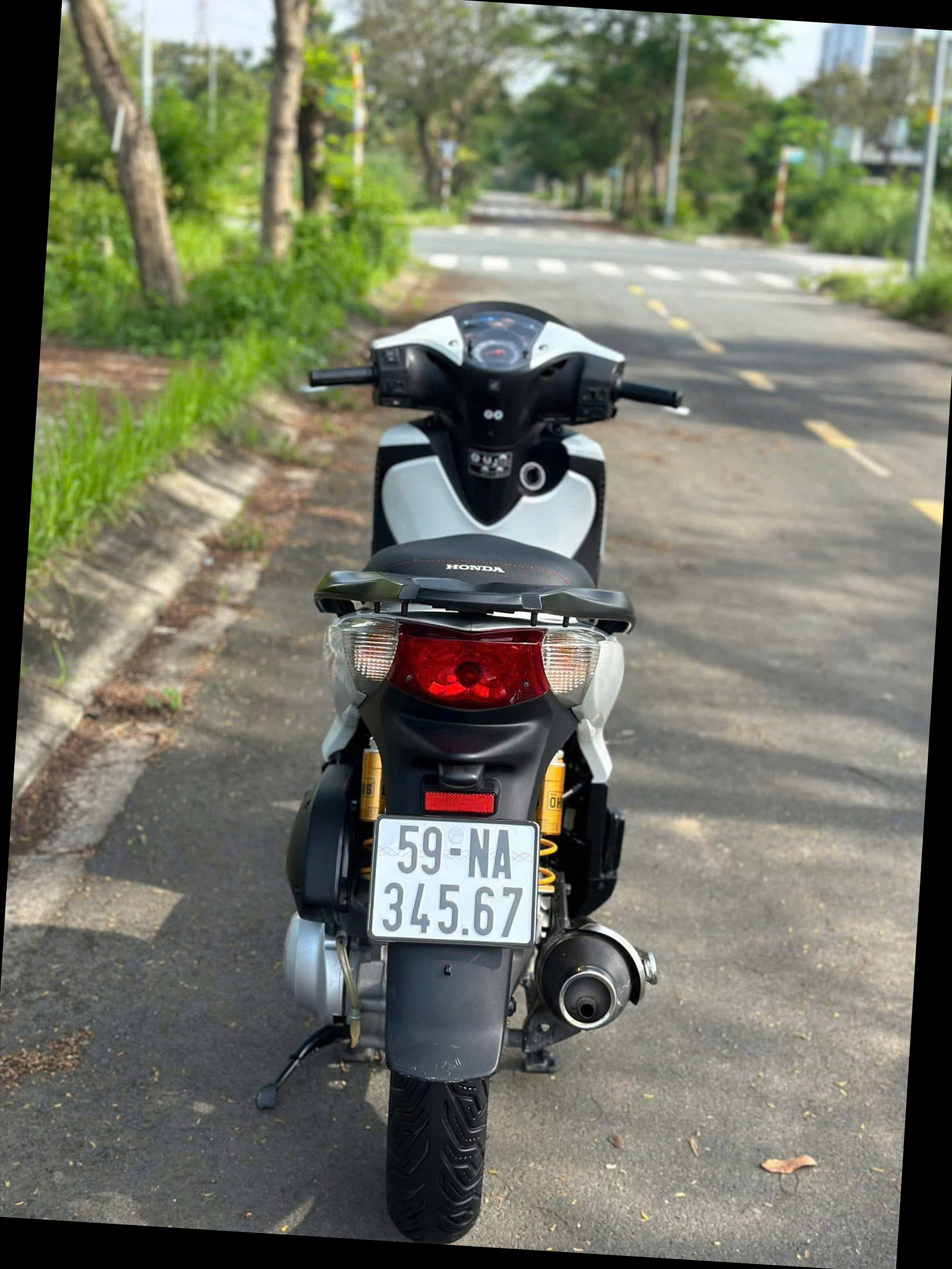Bien-so: (371, 818, 547, 945)
